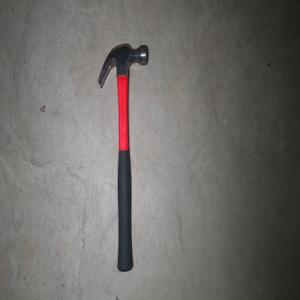Hammer: (97, 42, 147, 273)
